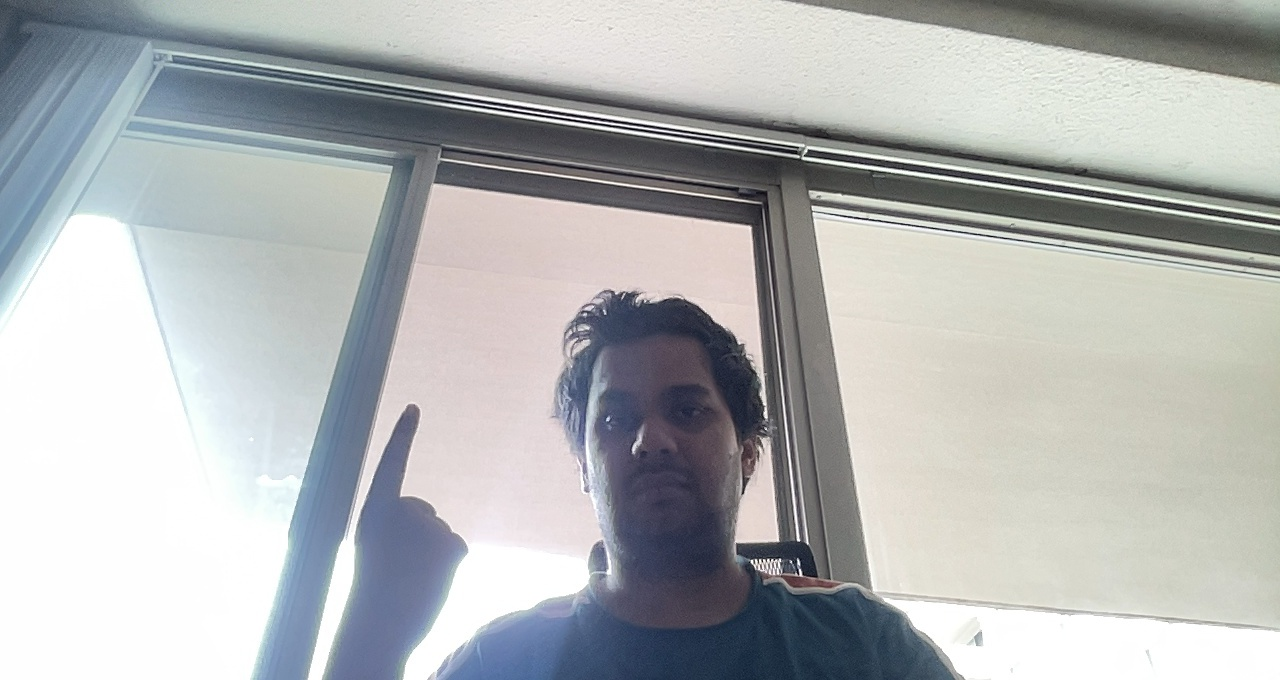fingerup: (343, 397, 476, 626)
